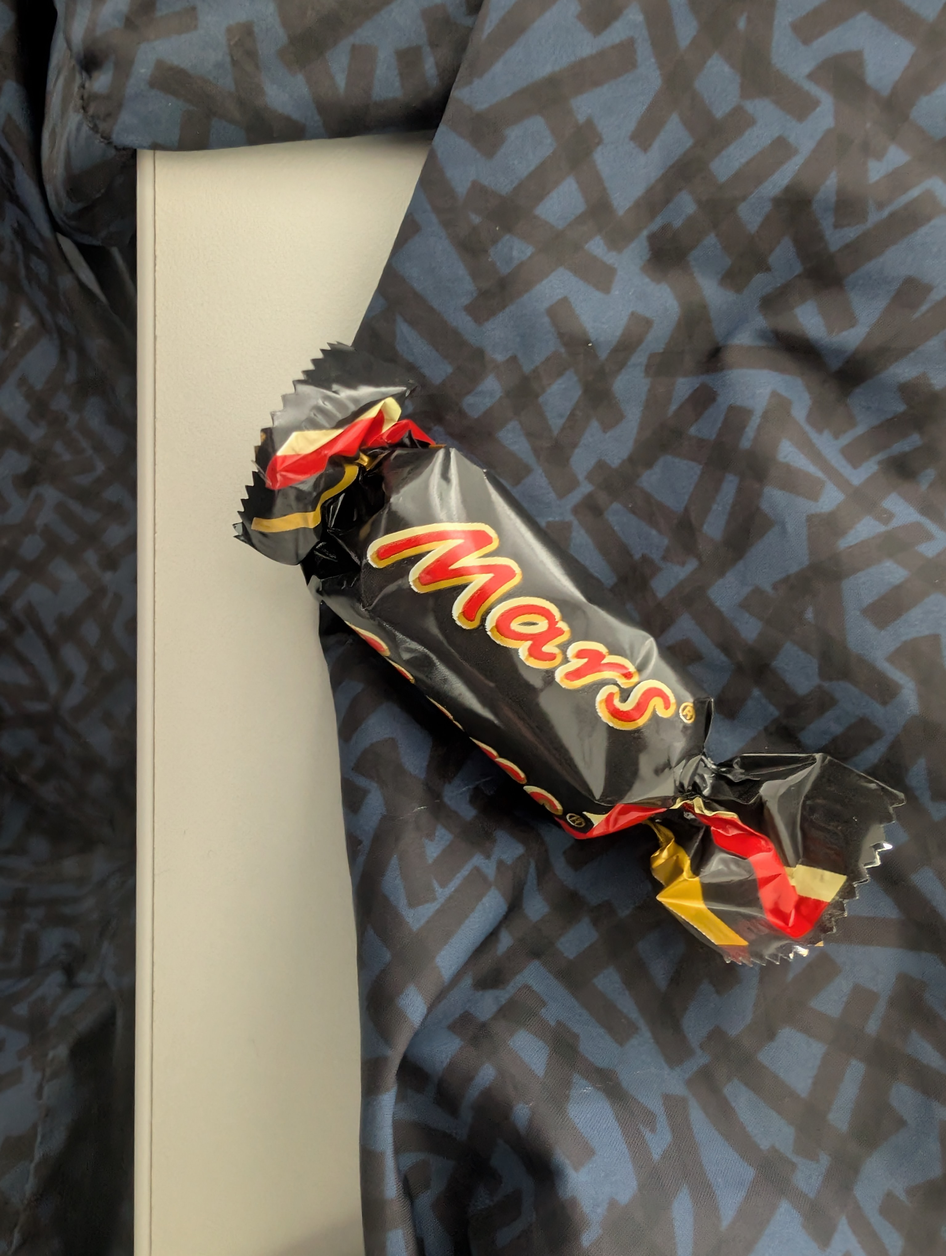Mars: (238, 344, 906, 967)
